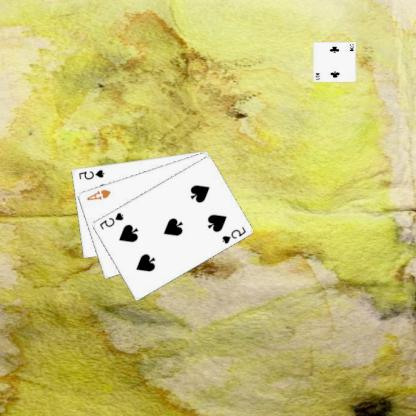5S: (98, 209, 126, 231), (221, 224, 249, 245), (78, 166, 106, 180)
AH: (86, 186, 114, 201)
